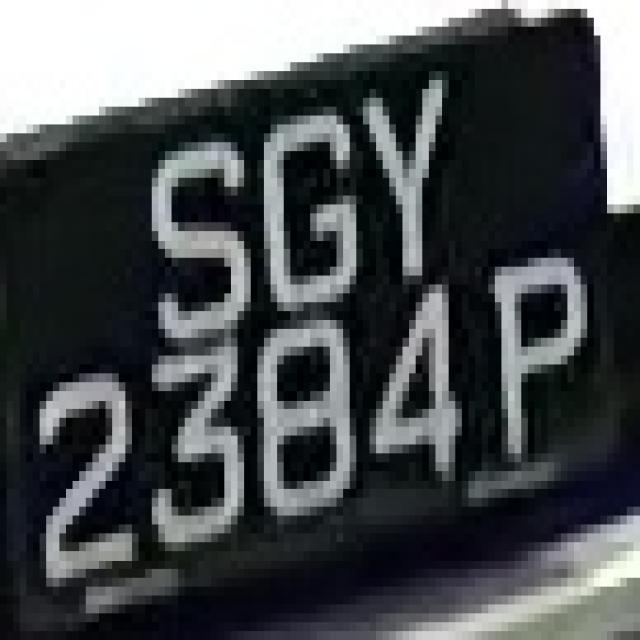2: (13, 338, 145, 613)
3: (125, 329, 264, 560)
4: (343, 258, 475, 524)
8: (231, 302, 369, 542)
G: (258, 80, 356, 329)
P: (482, 222, 600, 507)
S: (125, 98, 244, 373)
Y: (330, 53, 475, 267)
